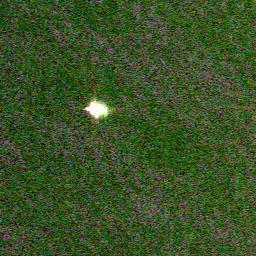Ship: (81, 97, 114, 121)
